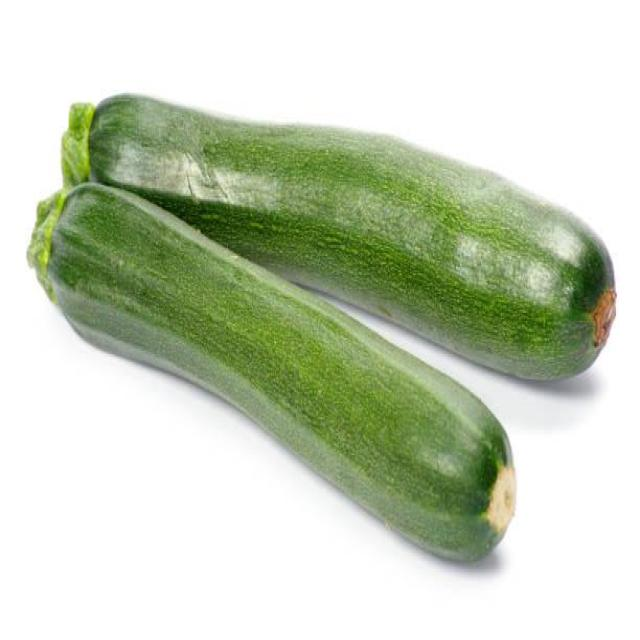Courgette: (33, 183, 513, 559), (90, 95, 615, 379)
